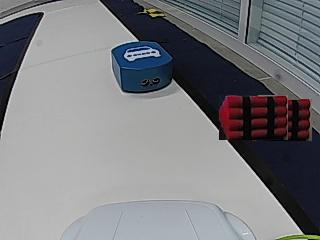safety: (124, 46, 161, 61)
